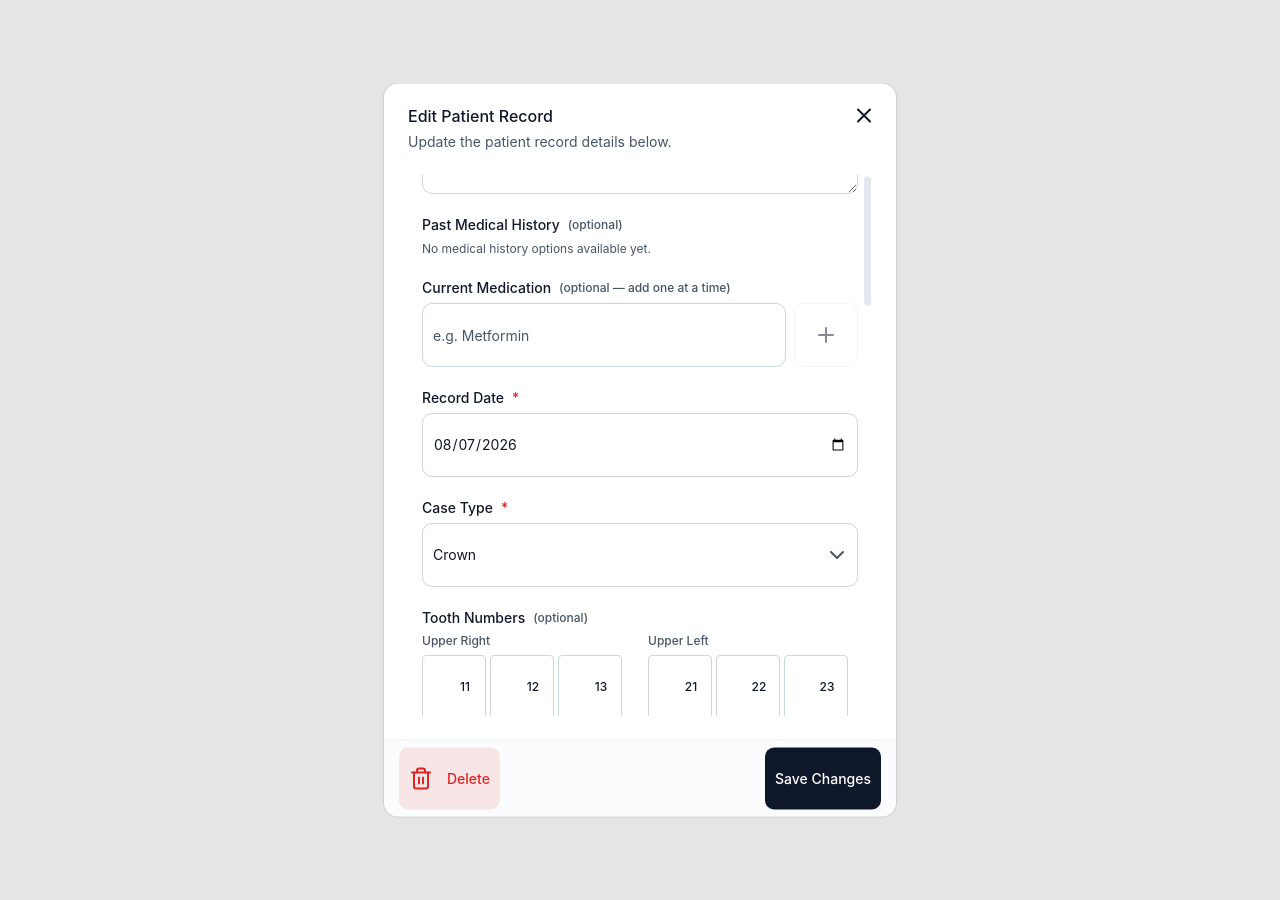
Scenario: Record Date in the shared form › keeps the edit date and lab milestones after a failed update
The width and height of the screenshot is (1280, 900).
(page scrolled)
Expected: the button "Save Changes" is enabled, [764,746,882,810]
Type "2026-07-15" into the date field labelled "Record Date *" at point(640, 446), box [422,414,858,478]
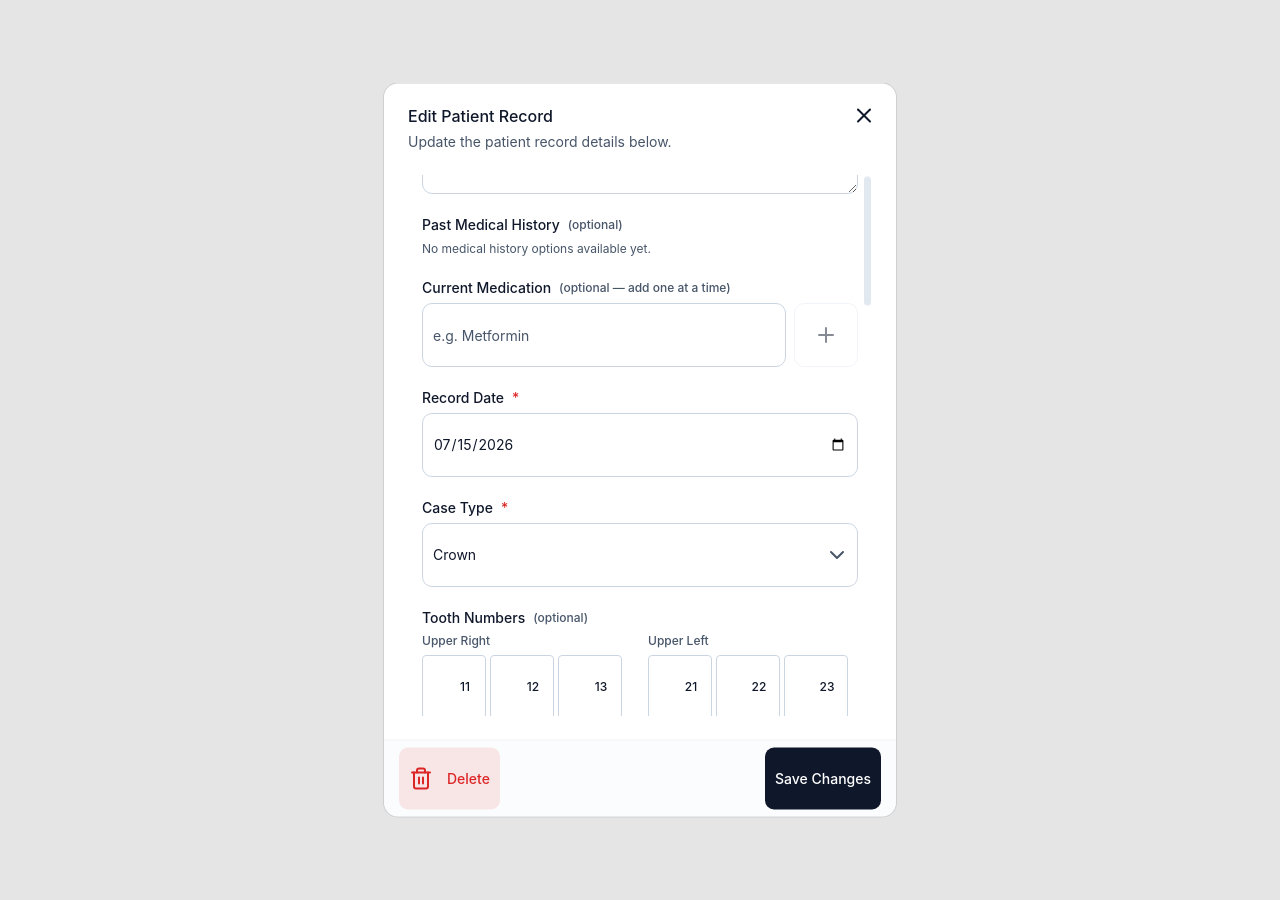
Click the button "Save Changes" at point(823, 778), box [764,746,882,810]
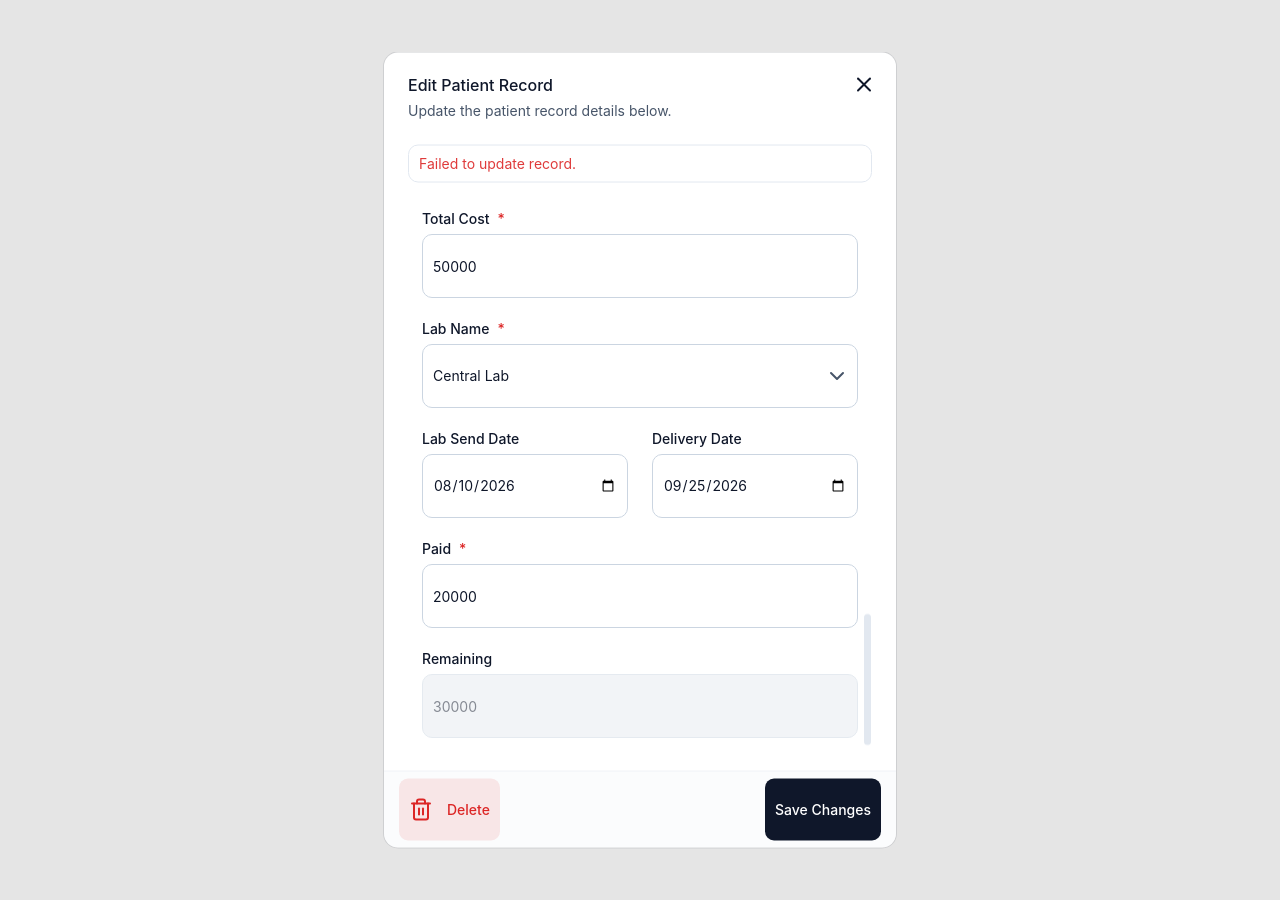
Expected: the text "Failed to update record." is shown, [419,154,576,172]
Expected: the date field labelled "Lab Send Date" holds "2026-08-10", [422,455,628,519]
Expected: the date field labelled "Delivery Date" holds "2026-09-25", [652,455,858,519]
